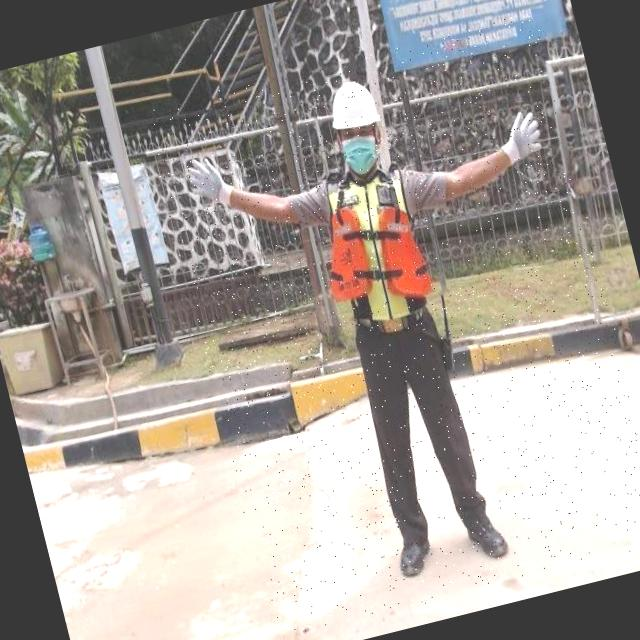boots: (458, 496, 513, 570), (385, 514, 441, 584)
gloves: (160, 133, 253, 224), (488, 98, 562, 172)
helmet: (320, 75, 382, 136)
vest: (303, 158, 442, 340)
